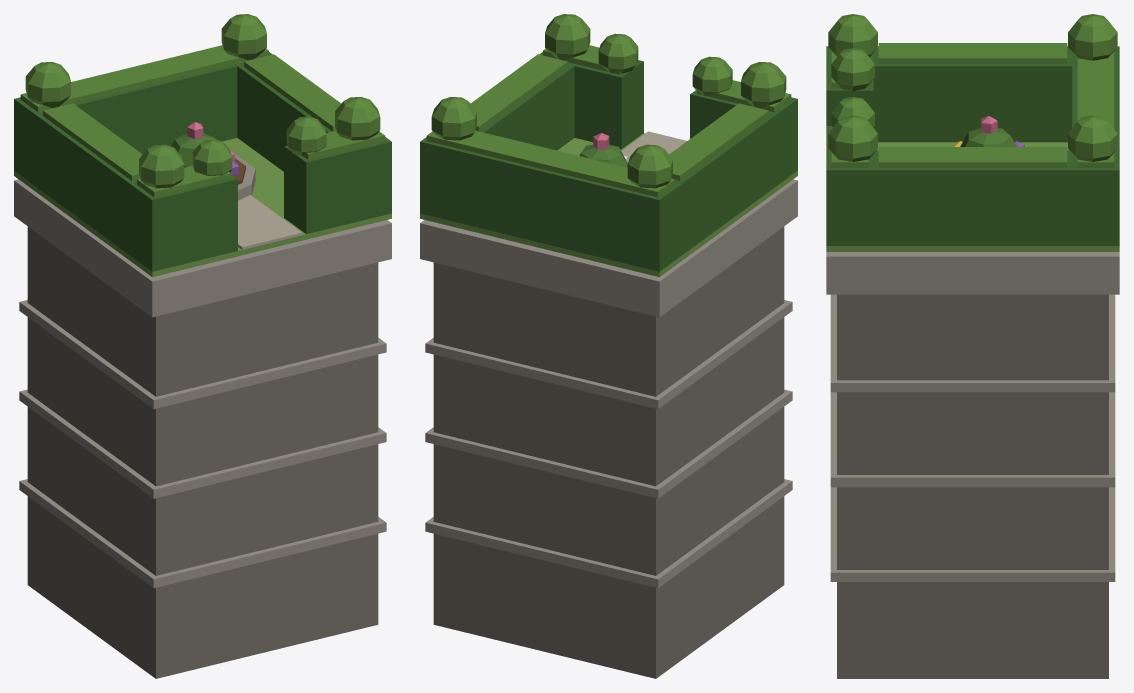
File: decor_hedge_square.glb
3 views of the same model, side by side, from view 1: azimuth 30°, elevation 25°; view 2: azimuth 150°, elevation 25°; view 3: azimuth 270°, elevation 25° (orthographic). The views are drawn at different scales.
Visible parts, largest first — view 1: decor_hedge_square; view 2: decor_hedge_square; view 3: decor_hedge_square.
Part boxes in pixels (<box>): decor_hedge_square: <box>14,14,391,678</box>; decor_hedge_square: <box>420,14,797,678</box>; decor_hedge_square: <box>826,14,1119,678</box>.
Size of the model in its own units: 2.8 by 5.85 by 2.8.
